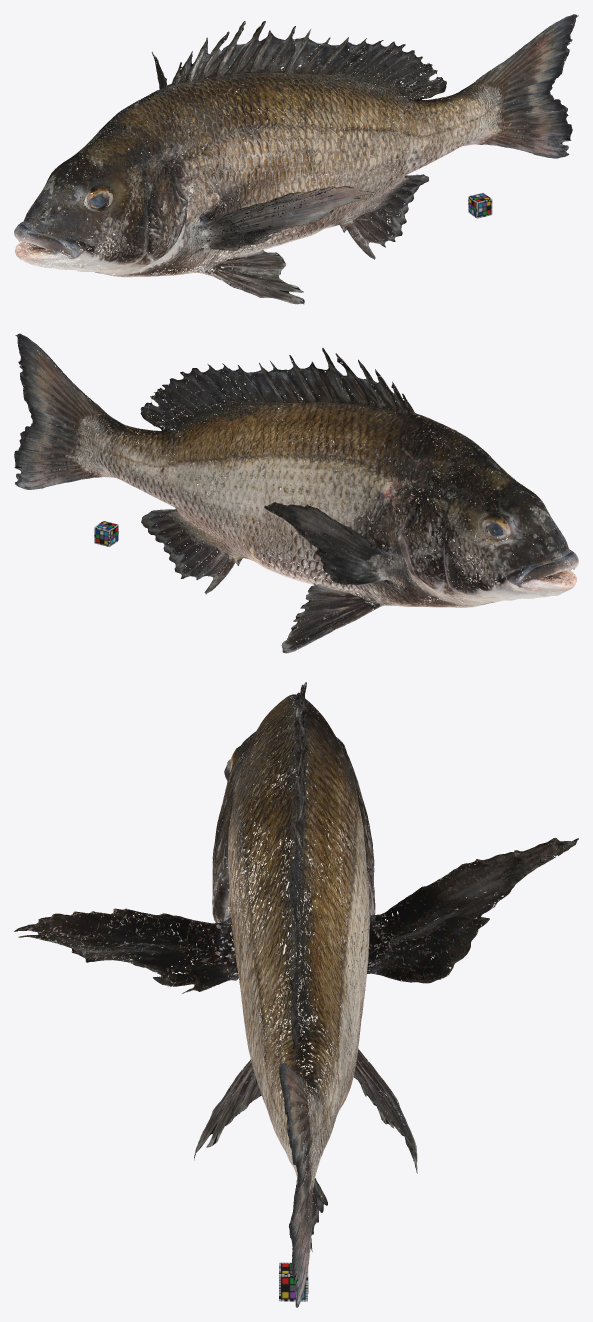
Rendered from scan_blackseabream.glb.
The picture shows the model from 3 angles, top to bottom: view 1: azimuth 30°, elevation 25°; view 2: azimuth 150°, elevation 25°; view 3: azimuth 270°, elevation 25°; orthographic projection. The views are drawn at different scales.
Parts seen in each view (by area): view 1: Object_15, Object_6, Object_23, Object_4; view 2: Object_6, Object_23, Object_15, Object_4; view 3: Object_6, Object_15, Object_23.
Part boxes in pixels (x1=…): Object_15: x1=16, y1=14, x2=577, y2=304; Object_6: x1=14, y1=14, x2=575, y2=303; Object_23: x1=14, y1=15, x2=578, y2=304; Object_4: x1=468, y1=192, x2=492, y2=218; Object_6: x1=15, y1=338, x2=578, y2=653; Object_23: x1=14, y1=333, x2=578, y2=650; Object_15: x1=14, y1=333, x2=578, y2=648; Object_4: x1=94, y1=521, x2=118, y2=546; Object_6: x1=14, y1=682, x2=577, y2=1307; Object_15: x1=19, y1=683, x2=578, y2=1307; Object_23: x1=20, y1=684, x2=577, y2=1307.
Bounding box in the file's own units: 20.33 × 9.61 × 10.76.
5 materials, 5 textured.
